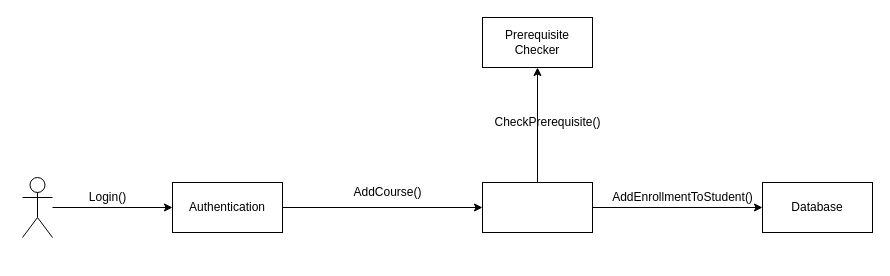
Some shapes in this 890 by 276 pixel diagram are drawn without their labels. Each missing label, with the centre of its shape:
"Registration Service" goes at pixel 537 207.
"Student" goes at pixel 37 207.
